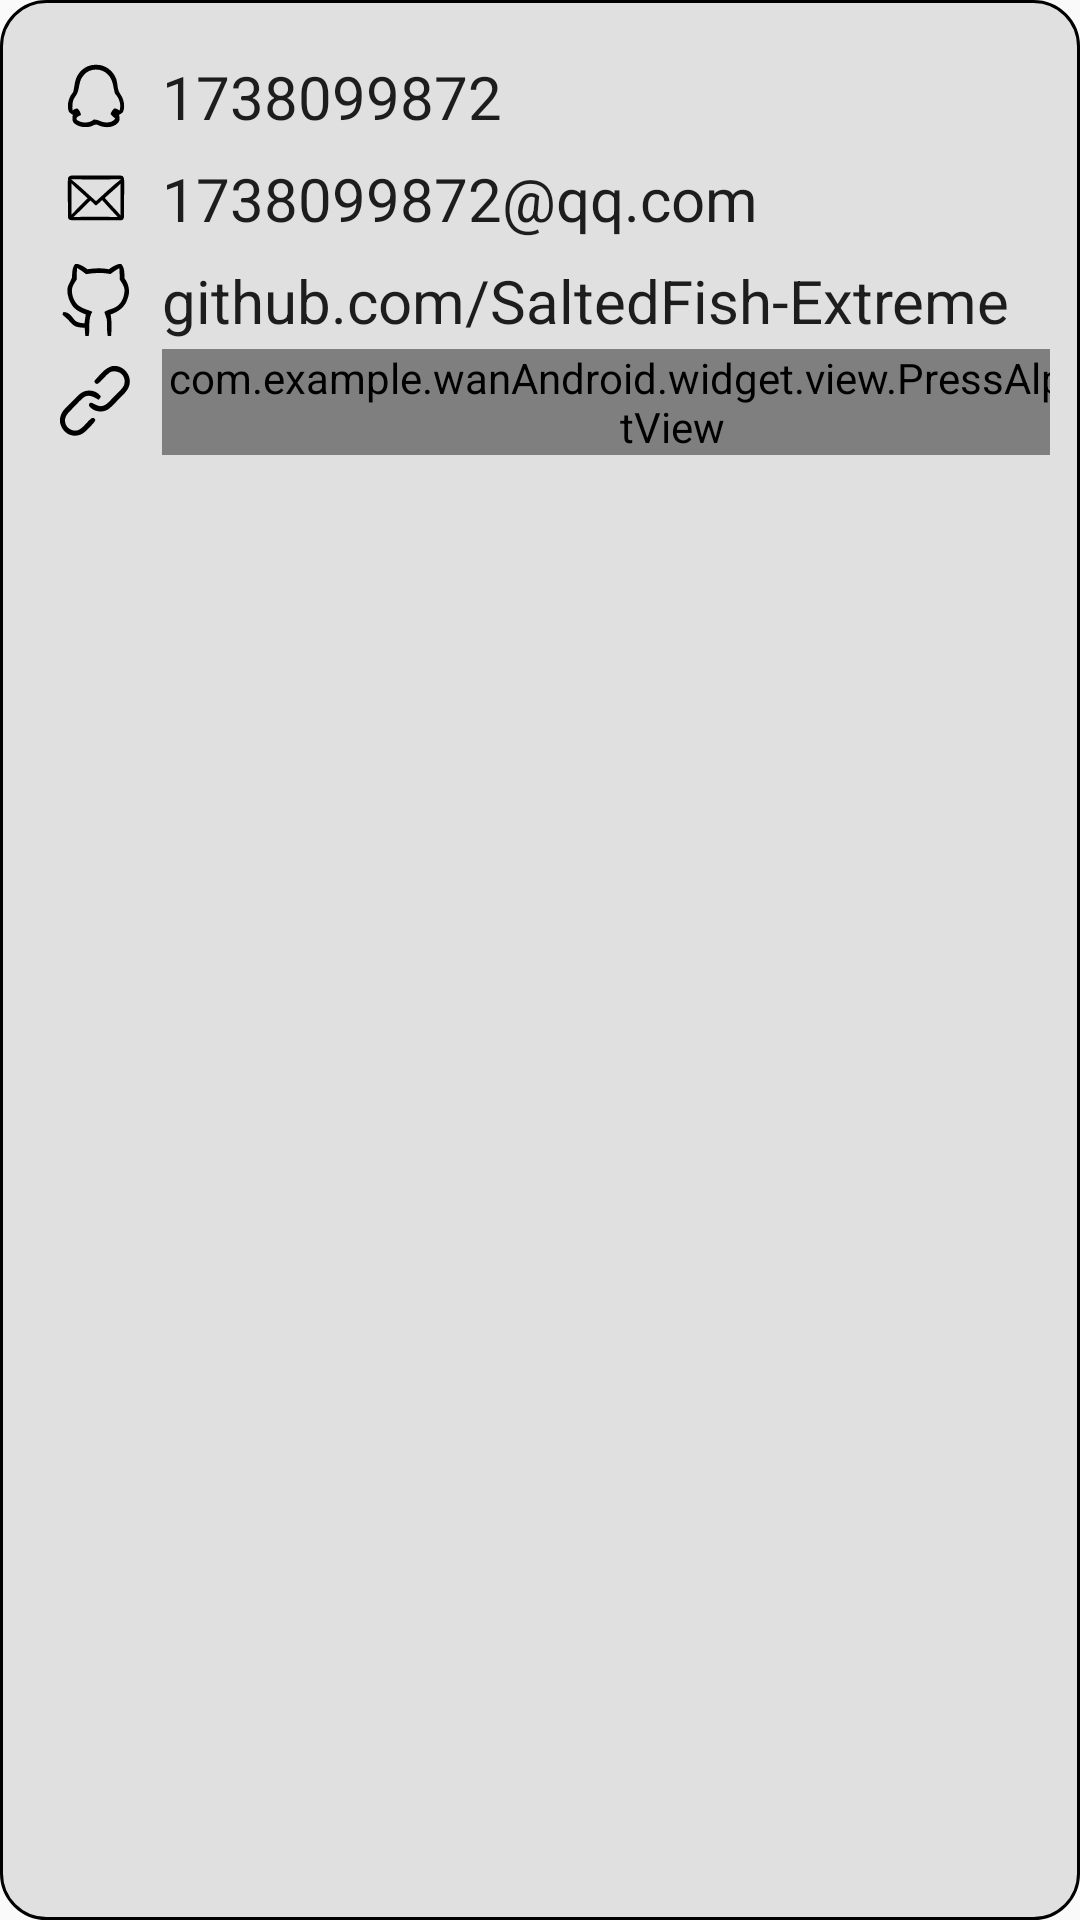

Point at icon controls on the screen. Image size 1080 × 1920, points as point (x, y).
email: point (96, 198)
link: point (95, 401)
